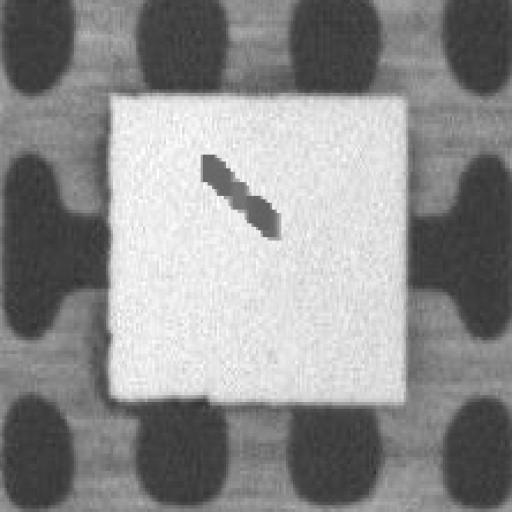DIE_INK: (191, 148, 279, 237)
